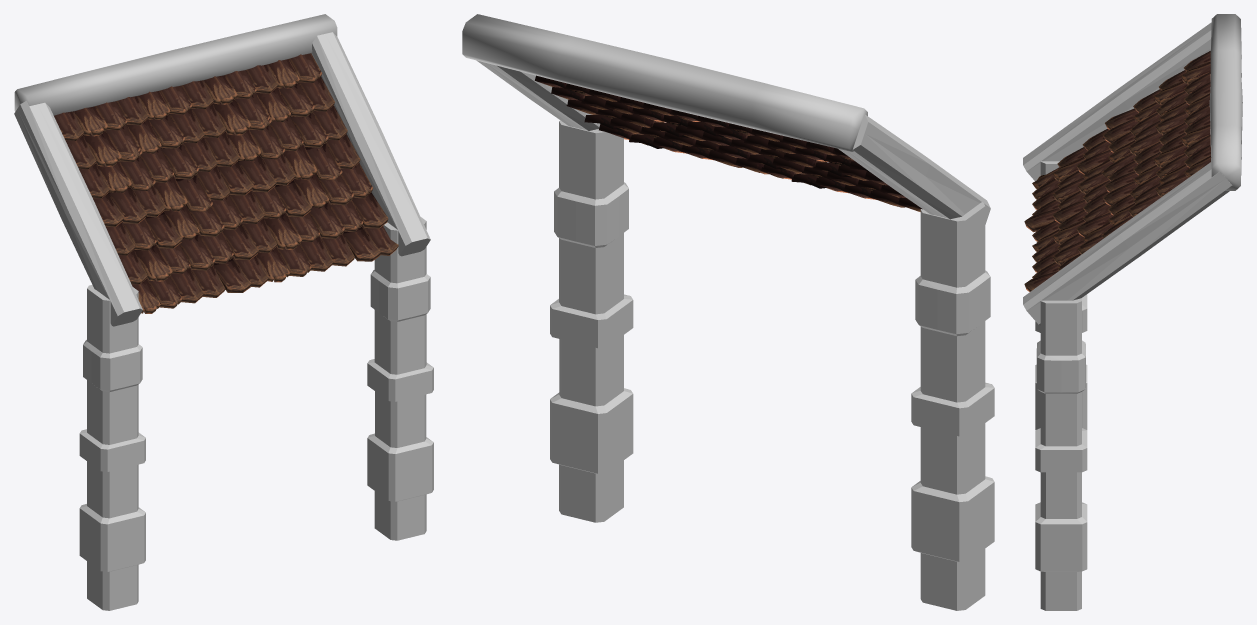
File: VV-RoofTile11.fbx
The picture shows the model from 3 angles, left to right: view 1: azimuth 30°, elevation 25°; view 2: azimuth 150°, elevation 25°; view 3: azimuth 270°, elevation 25°; orthographic projection. The views are drawn at different scales.
Parts seen in each view (by area): view 1: RoofTile.11; view 2: RoofTile.11; view 3: RoofTile.11.
Part boxes in pixels (x1,y1,x2,y2): RoofTile.11: [14, 14, 433, 610]; RoofTile.11: [462, 14, 994, 610]; RoofTile.11: [1023, 14, 1242, 610].
Bounding box in the file's own units: 4.63 × 5.98 × 2.67.
